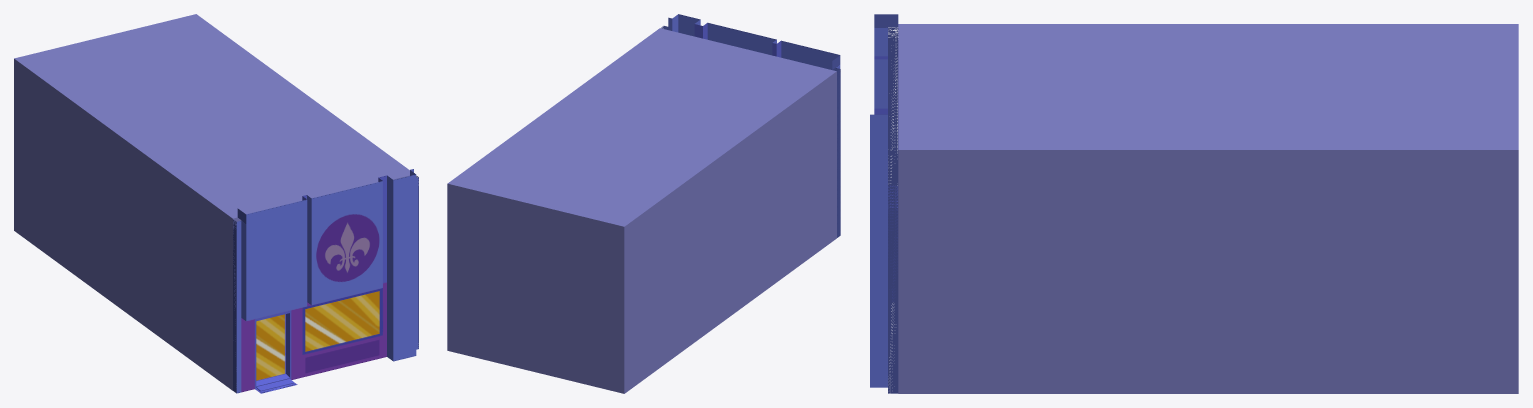
Rendered from Adam_Building_4.fbx.
3 renders of one model, left to right at view 1: azimuth 30°, elevation 25°; view 2: azimuth 150°, elevation 25°; view 3: azimuth 270°, elevation 25°, orthographic. The views are drawn at different scales.
Visible parts, largest first — view 1: Bldg_Combo_3:Inside_Building3, Bldg_Combo_3:JamQuestBuilding_Front; view 2: Bldg_Combo_3:Inside_Building3, Bldg_Combo_3:JamQuestBuilding_Front; view 3: Bldg_Combo_3:Inside_Building3, Bldg_Combo_3:JamQuestBuilding_Front.
Part boxes in pixels (left/top/right/bottom): Bldg_Combo_3:Inside_Building3: left=14, top=14, right=409, bottom=390; Bldg_Combo_3:JamQuestBuilding_Front: left=233, top=169, right=418, bottom=393; Bldg_Combo_3:Inside_Building3: left=447, top=28, right=836, bottom=393; Bldg_Combo_3:JamQuestBuilding_Front: left=661, top=14, right=840, bottom=237; Bldg_Combo_3:Inside_Building3: left=898, top=24, right=1518, bottom=393; Bldg_Combo_3:JamQuestBuilding_Front: left=870, top=14, right=898, bottom=393.
Size of the model in its own units: 6.37 by 6.06 by 13.85.
2 materials, 1 textured.
